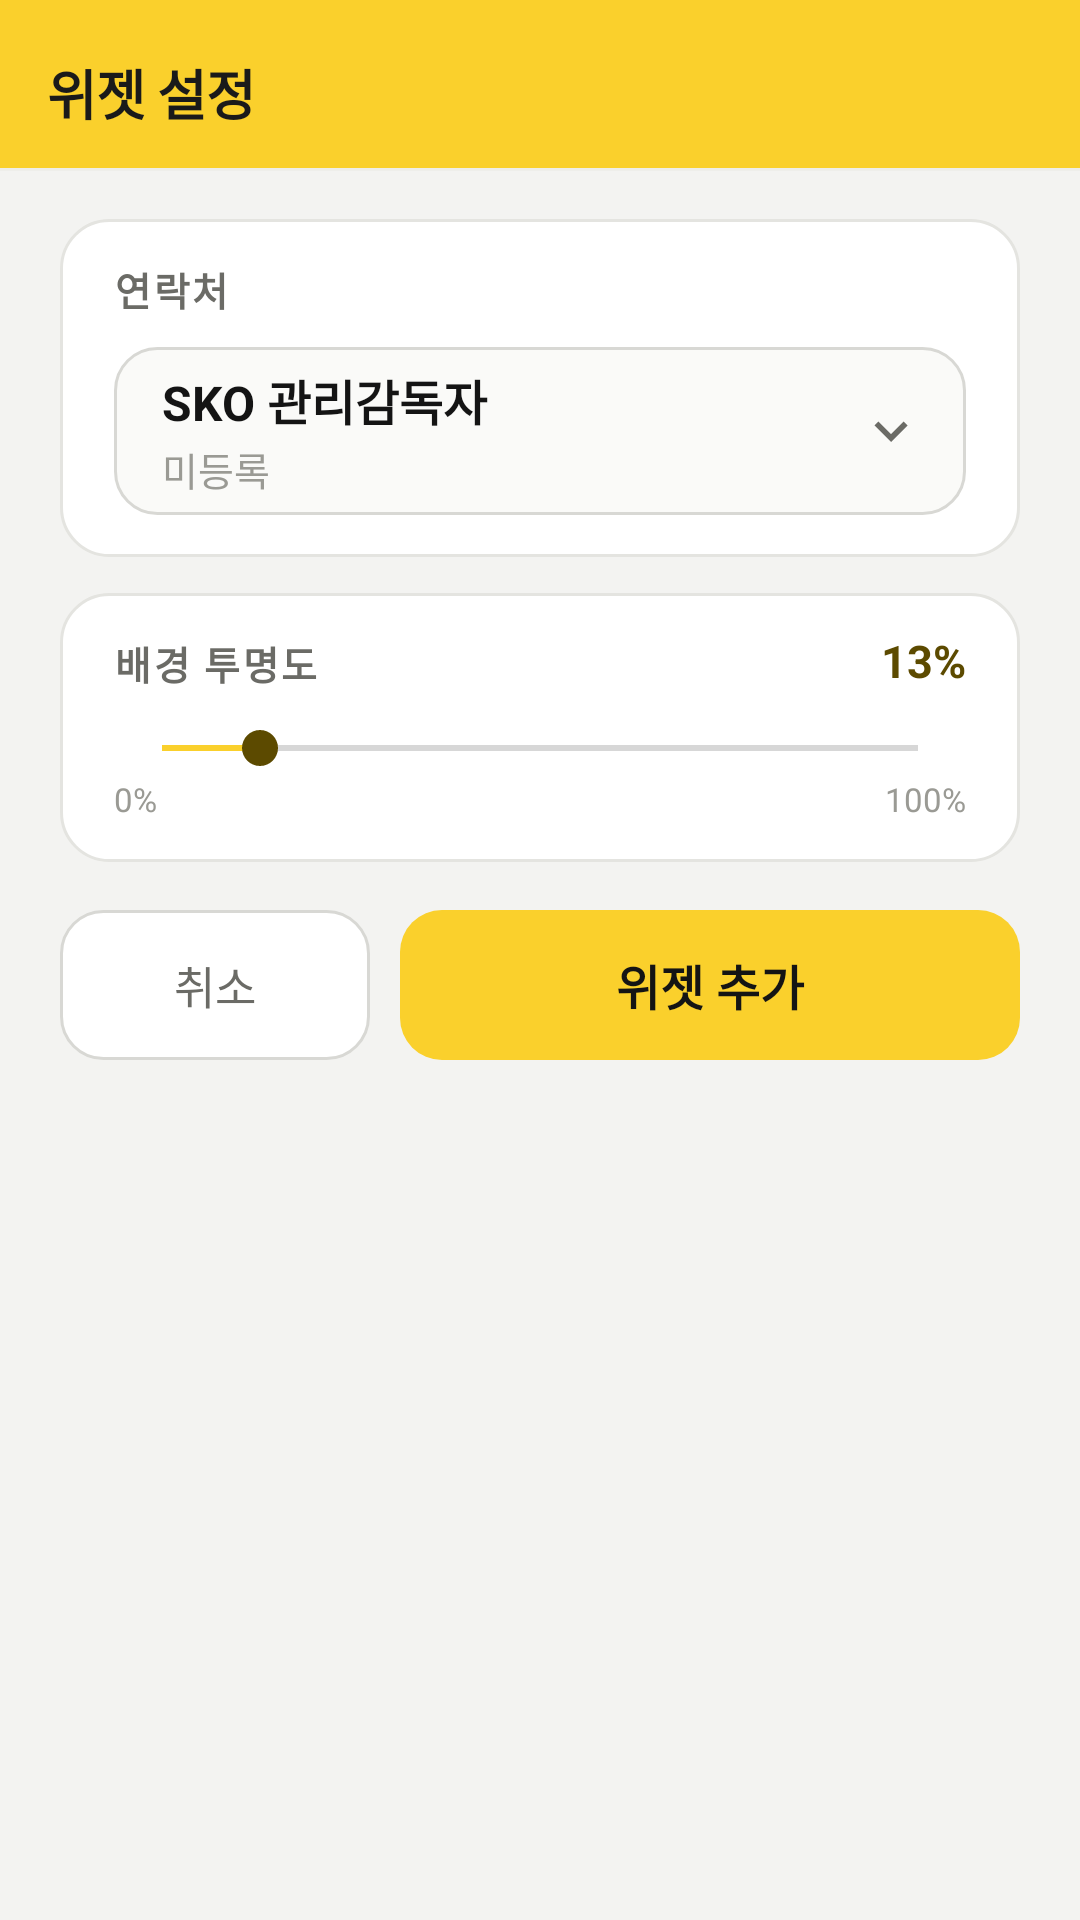

Where to tap for icons on this 1080w x 1920h app screen, as [x,y]:
chevron down: [891,431]
